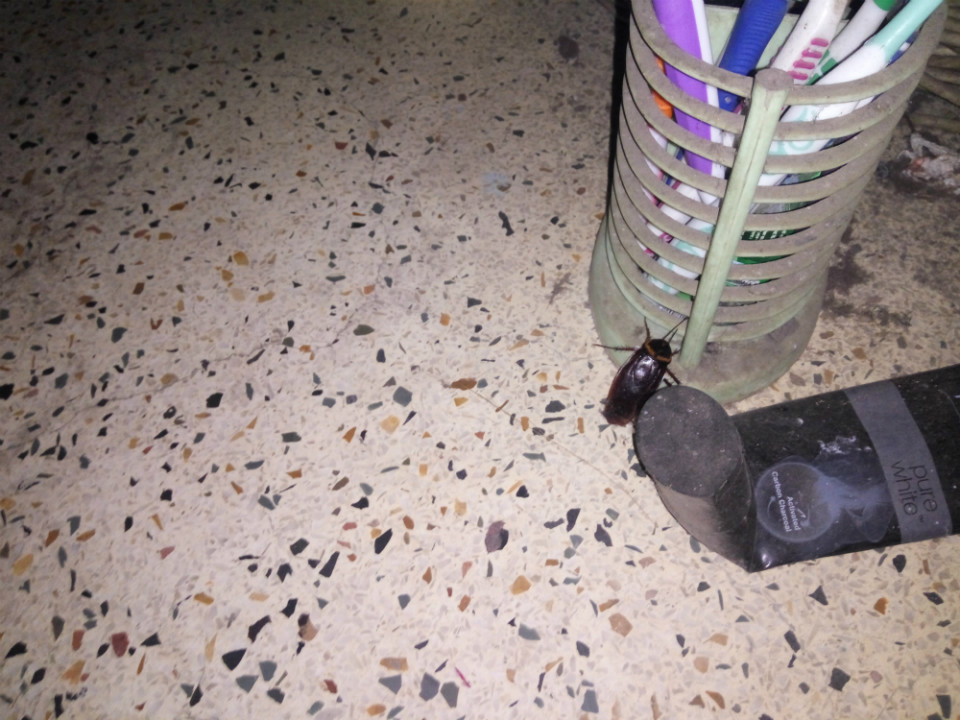cockroach: (547, 296, 686, 427)
